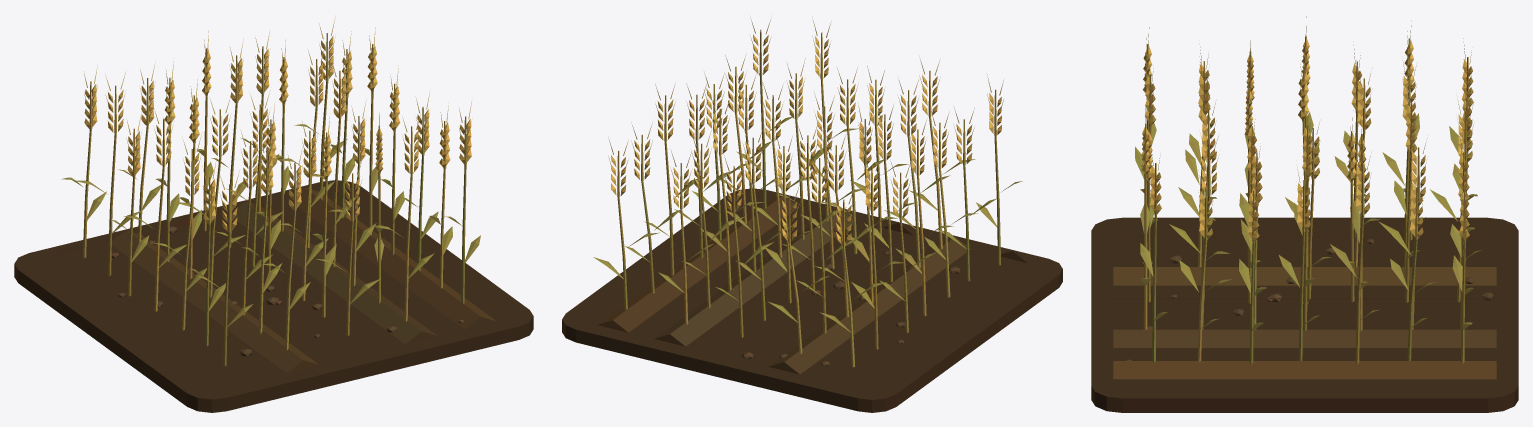
File: ble.glb
3 views of the same model, side by side, from view 1: azimuth 30°, elevation 25°; view 2: azimuth 150°, elevation 25°; view 3: azimuth 270°, elevation 25° (orthographic). The views are drawn at different scales.
Visible parts, largest first — view 1: Terre_et_sillons, Tiges_et_feuilles, Epis_et_barbes; view 2: Terre_et_sillons, Tiges_et_feuilles, Epis_et_barbes; view 3: Terre_et_sillons, Tiges_et_feuilles, Epis_et_barbes.
Boxes of the visible parts, x1,y1,x2,y2 form: Terre_et_sillons: (14, 180, 533, 412); Tiges_et_feuilles: (61, 81, 480, 366); Epis_et_barbes: (83, 16, 472, 232); Terre_et_sillons: (562, 188, 1062, 412); Tiges_et_feuilles: (593, 76, 1022, 367); Epis_et_barbes: (608, 18, 1003, 246); Terre_et_sillons: (1091, 217, 1518, 412); Tiges_et_feuilles: (1135, 90, 1481, 364); Epis_et_barbes: (1141, 16, 1473, 242).
Bounding box in the file's own units: 0.48 × 0.309 × 0.48.
